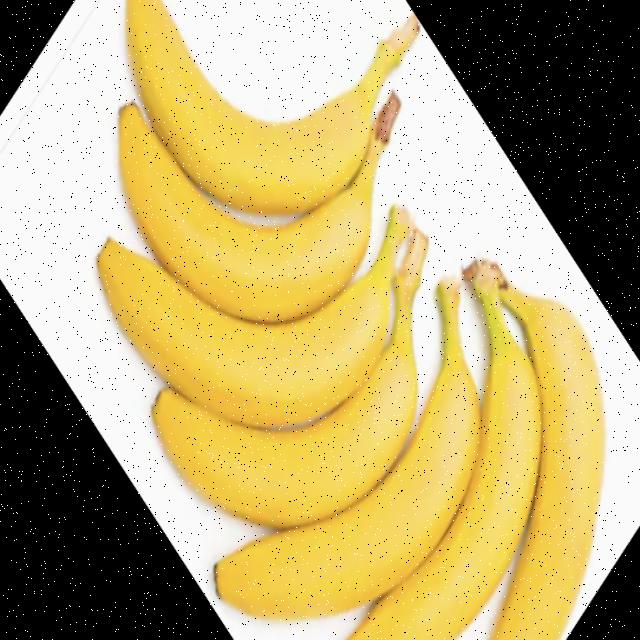god quality banana: (96, 1, 605, 638)
